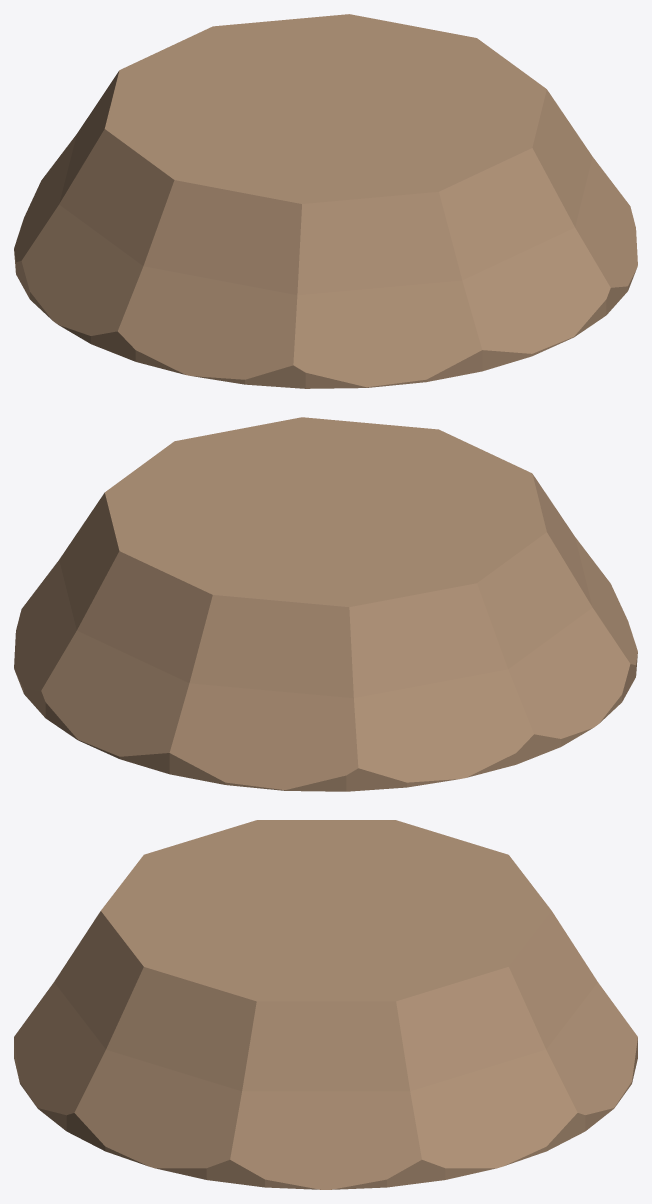
The model's file is Cosastejo.fbx.
3 views of the same model, one above another, from view 1: azimuth 30°, elevation 25°; view 2: azimuth 150°, elevation 25°; view 3: azimuth 270°, elevation 25° (orthographic).
Parts seen in each view (by area): view 1: tejo; view 2: tejo; view 3: tejo.
Boxes of the visible parts, <box> form: tejo: <box>14,14,637,388</box>; tejo: <box>14,417,637,791</box>; tejo: <box>14,820,637,1189</box>.
Bounding box in the file's own units: 190 × 49.67 × 190.
